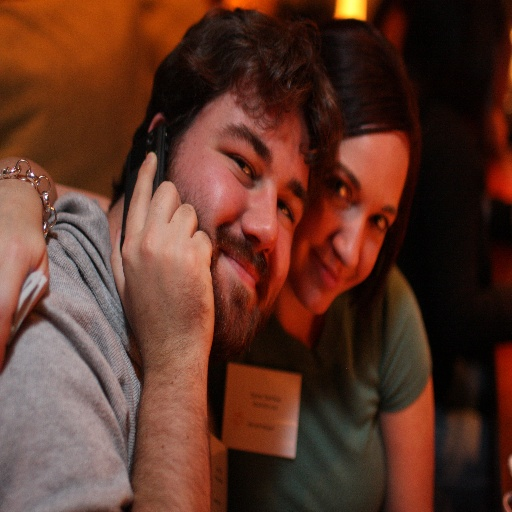hand: (112, 128, 254, 509), (0, 175, 50, 374)
